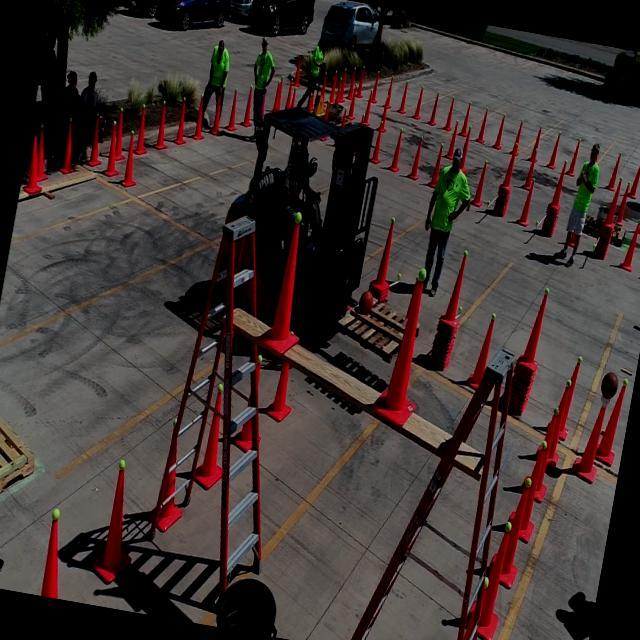driver: (270, 136, 326, 224)
forklift: (223, 106, 385, 344)
person: (416, 141, 472, 292), (566, 146, 602, 254), (247, 34, 278, 104), (36, 30, 64, 94), (205, 34, 232, 100), (305, 33, 329, 94)
